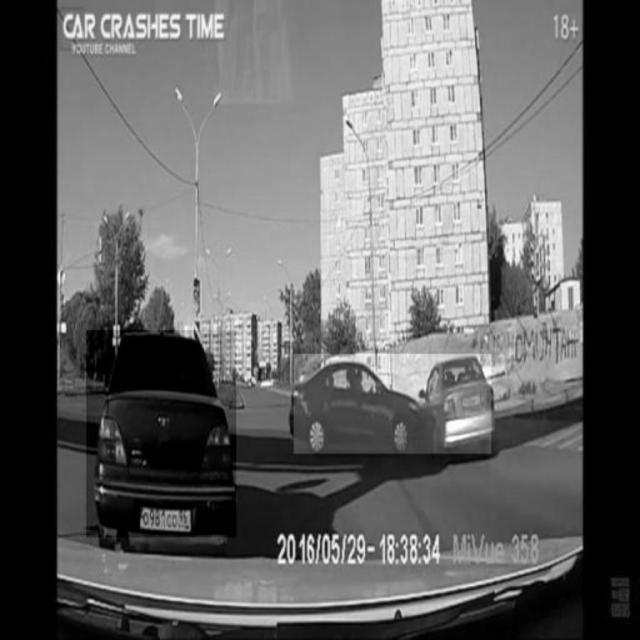accident: (294, 354, 491, 454)
vehicle: (87, 331, 237, 538)
